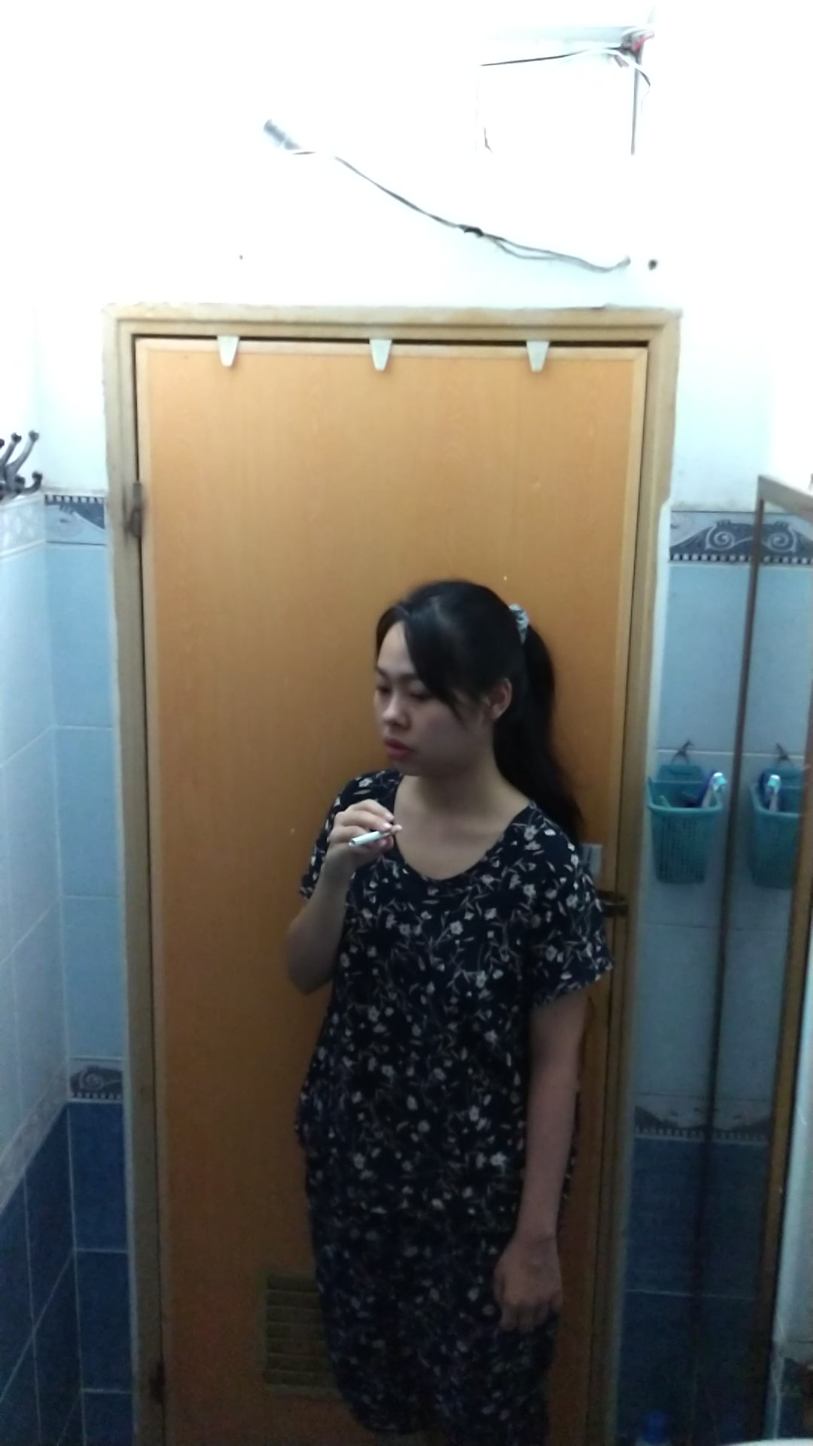cigarette: (346, 830, 382, 851)
person: (280, 571, 621, 1436)
